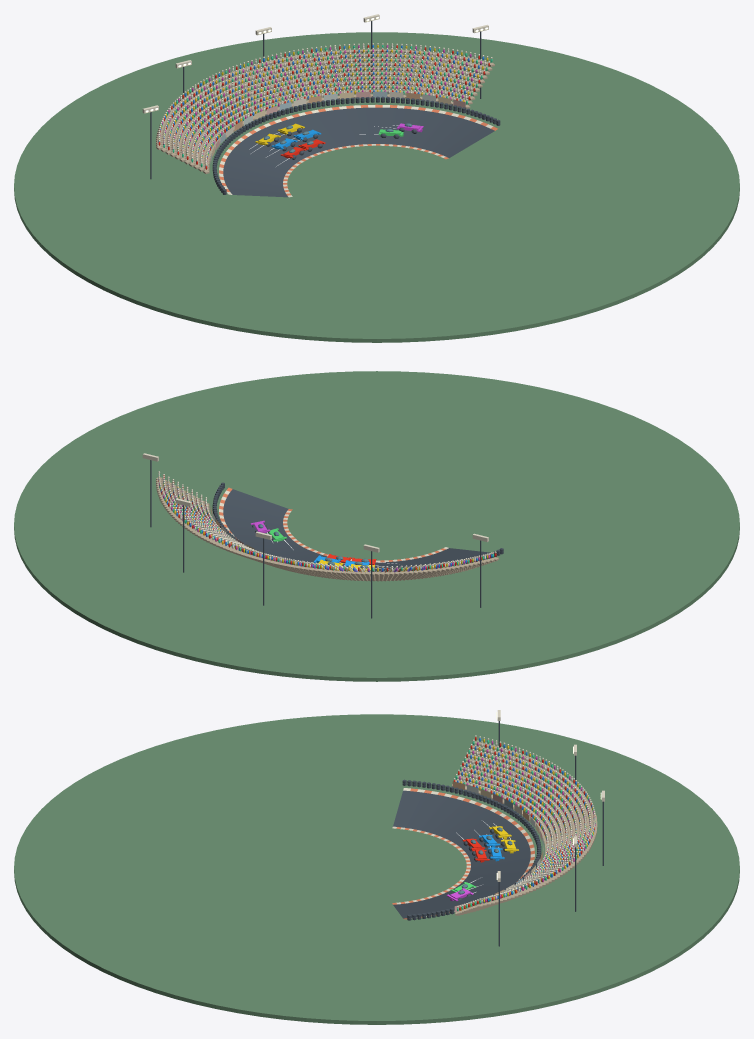
The model's file is race.glb.
3 views of the same model, one above another, from view 1: azimuth 30°, elevation 25°; view 2: azimuth 150°, elevation 25°; view 3: azimuth 270°, elevation 25° (orthographic).
Visible parts, largest first — view 1: world detail batch; view 2: world detail batch; view 3: world detail batch.
Part boxes in pixels (left/top/right/bottom): world detail batch: left=14, top=14, right=739, bottom=342; world detail batch: left=14, top=371, right=739, bottom=681; world detail batch: left=14, top=710, right=739, bottom=1024.
Bounding box in the file's own units: 170 × 20 × 170.
